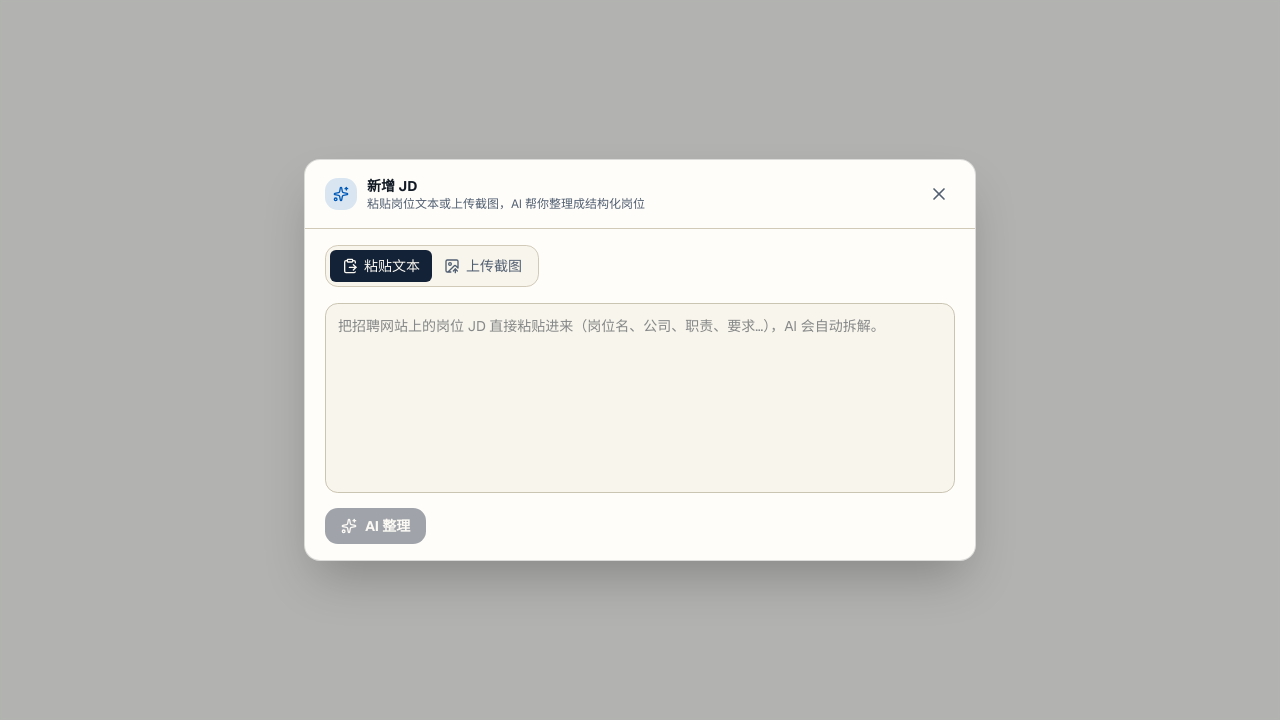
Test: CreateJdModal 容器失败接线 › 解析成功后展示草案
Type "高级前端工程师" into the text box at (640, 398), box [325,303,955,493]
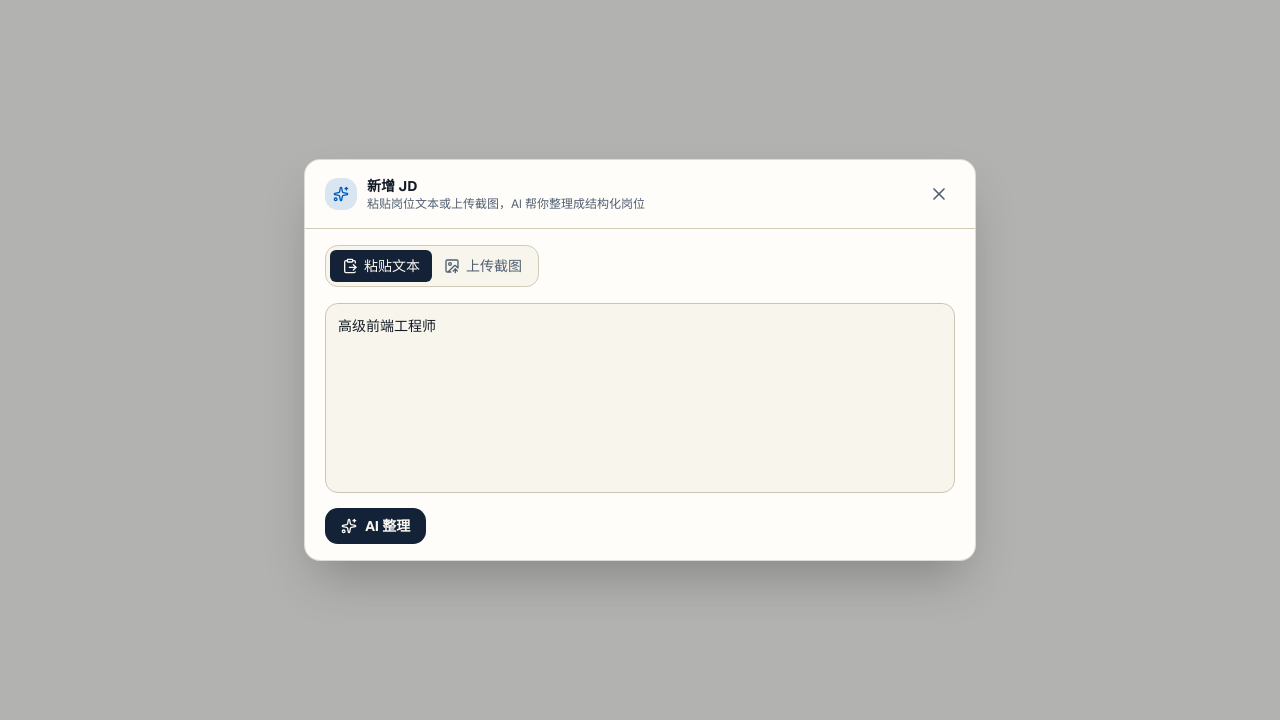
Click the button "AI 整理" at (376, 526), box [325,508,426,544]
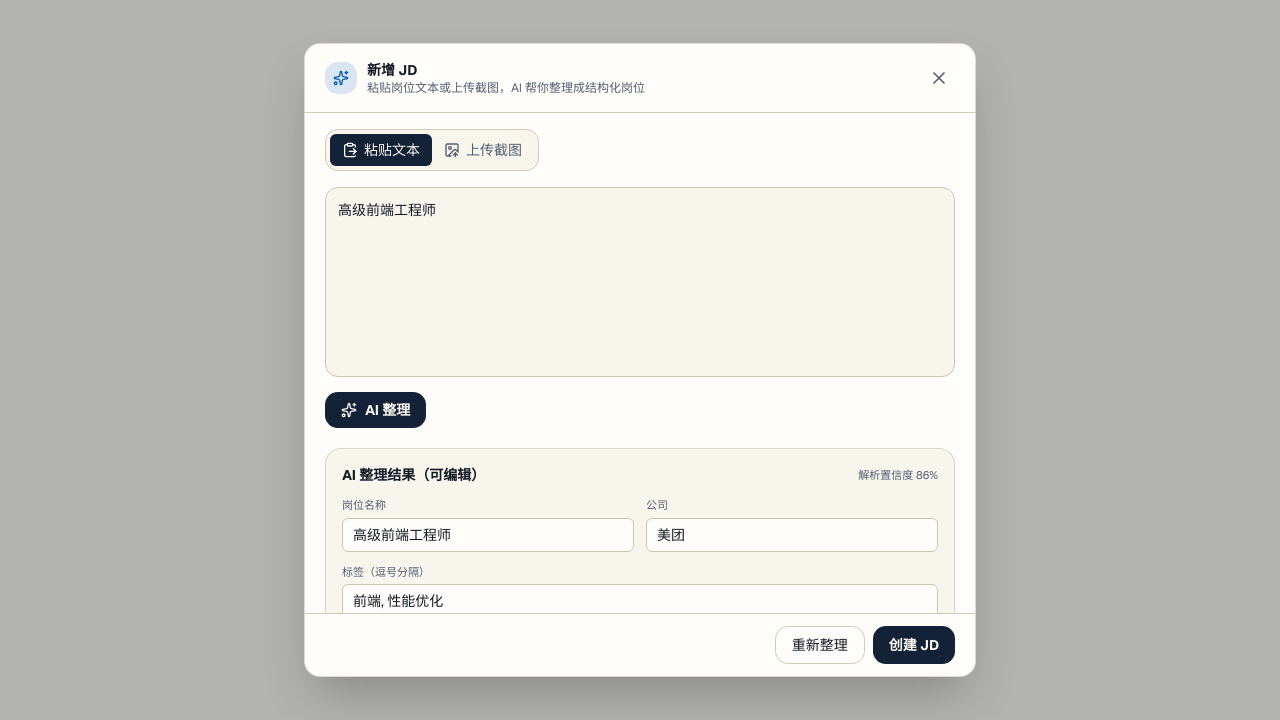
Check: the text "AI 整理结果（可编辑）" is shown, box [342,465,485,485]
